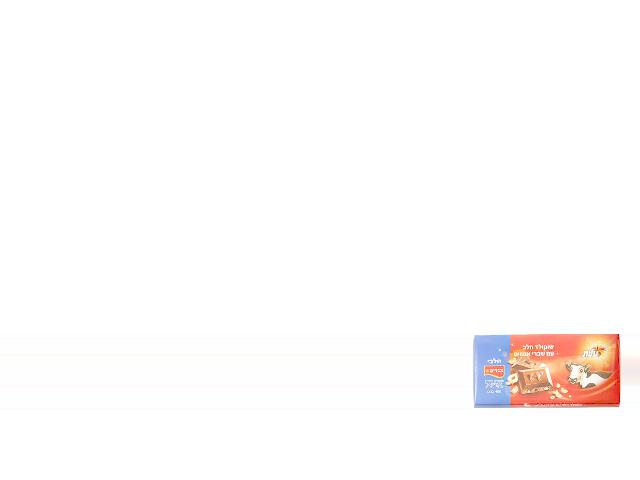chocolate: (473, 334, 621, 407)
